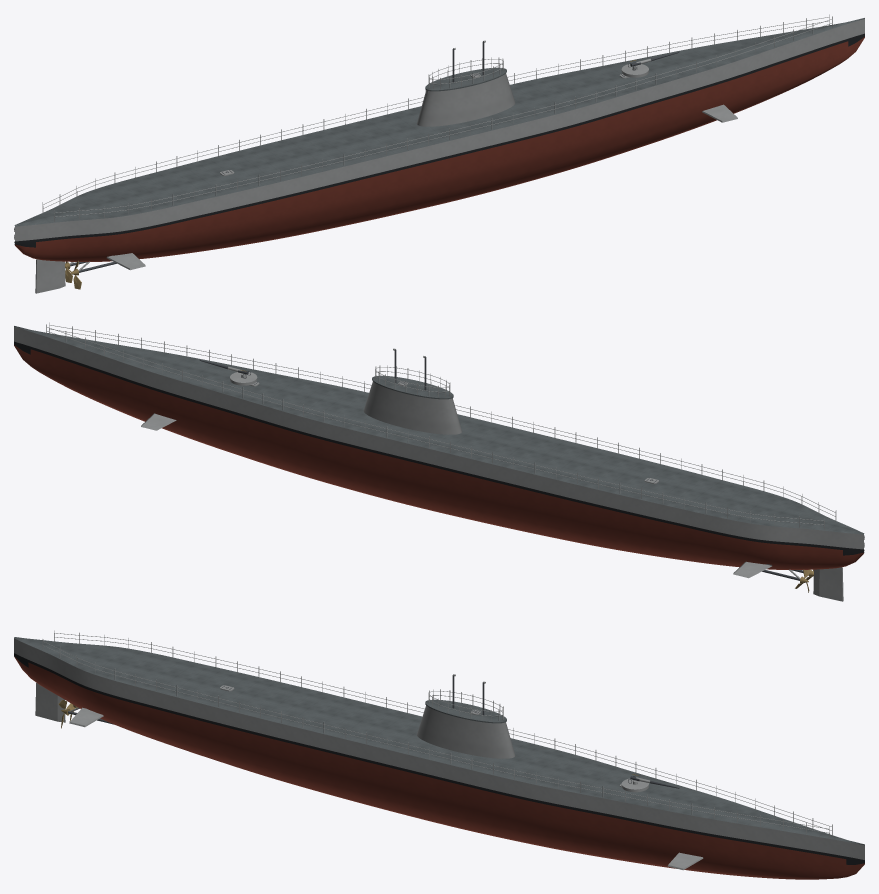
The model's file is requin.glb.
The picture shows the model from 3 angles, top to bottom: view 1: azimuth 30°, elevation 25°; view 2: azimuth 150°, elevation 25°; view 3: azimuth 330°, elevation 25°; orthographic projection.
Parts seen in each view (by area): view 1: Requin class; view 2: Requin class; view 3: Requin class.
Part boxes in pixels (x1,y1,x2,y2): Requin class: [14, 14, 864, 293]; Requin class: [14, 322, 864, 601]; Requin class: [14, 630, 864, 879].
Size of the model in its own units: 80.67 by 13.41 by 10.
6 materials, 6 textured.
